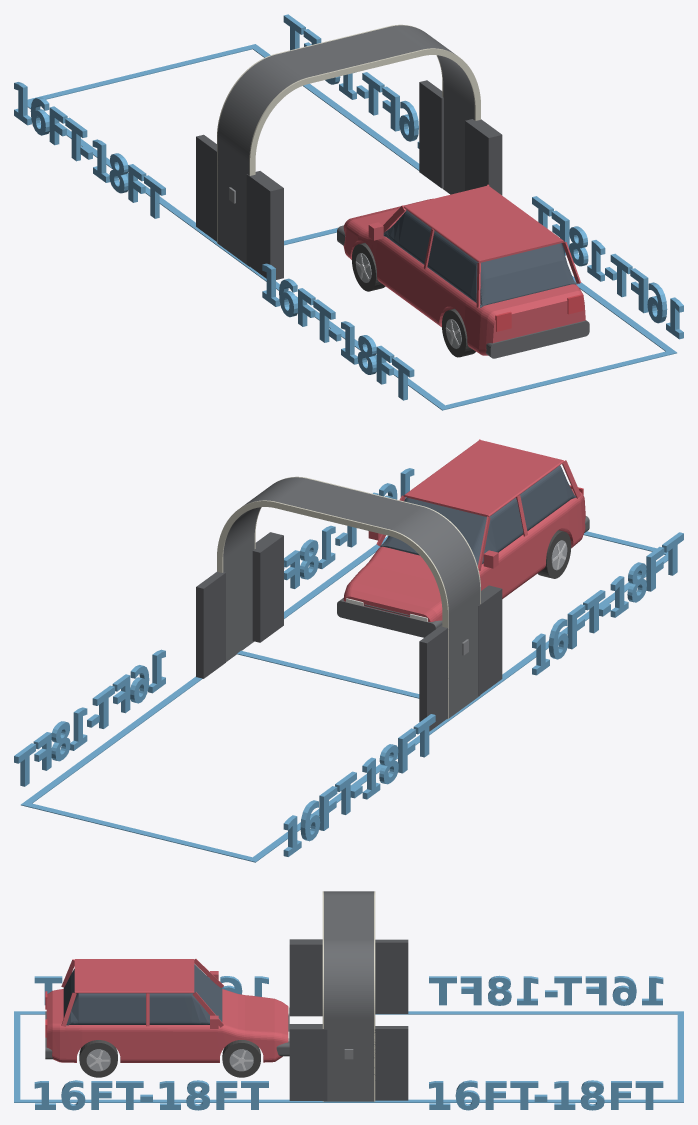
The model's file is colibri-xl-suv.glb.
The picture shows the model from 3 angles, top to bottom: view 1: azimuth 30°, elevation 25°; view 2: azimuth 150°, elevation 25°; view 3: azimuth 270°, elevation 25°; orthographic projection. The views are drawn at different scales.
Parts seen in each view (by area): view 1: arch_shell, vehicle_body, vehicle_glass, vehicle_roof, label_near_end_other_side, label_far_end_other_side, label_near_end, wing_2, label_far_end, wing_1, wing_3, arch_trim_front (+8 smaller); view 2: arch_shell, vehicle_body, vehicle_roof, vehicle_glass, label_far_end_other_side, label_near_end_other_side, label_far_end, wing_1, wing_3, wing_4, label_near_end, arch_trim_back (+7 smaller); view 3: arch_shell, vehicle_body, vehicle_glass, vehicle_roof, label_far_end_other_side, label_far_end, label_near_end, wing_1, wing_2, wing_3, wing_4, lane_right (+9 smaller).
Boxes of the visible parts, bbox=[...] form: arch_shell: bbox=[217, 25, 474, 266]; vehicle_body: bbox=[343, 198, 585, 355]; vehicle_glass: bbox=[383, 210, 577, 307]; vehicle_roof: bbox=[403, 185, 564, 262]; label_near_end_other_side: bbox=[262, 263, 414, 400]; label_far_end_other_side: bbox=[14, 82, 165, 218]; label_near_end: bbox=[532, 196, 683, 339]; wing_2: bbox=[246, 171, 283, 279]; label_far_end: bbox=[283, 14, 419, 148]; wing_1: bbox=[465, 119, 502, 195]; wing_3: bbox=[419, 80, 443, 188]; arch_trim_front: bbox=[249, 48, 480, 266]; arch_shell: bbox=[223, 477, 480, 718]; vehicle_body: bbox=[343, 489, 585, 622]; vehicle_roof: bbox=[403, 440, 564, 516]; vehicle_glass: bbox=[380, 465, 575, 565]; label_far_end_other_side: bbox=[283, 714, 435, 856]; label_near_end_other_side: bbox=[532, 532, 683, 675]; label_far_end: bbox=[14, 649, 165, 786]; wing_1: bbox=[252, 532, 283, 642]; wing_3: bbox=[196, 572, 225, 678]; wing_4: bbox=[419, 625, 447, 731]; label_near_end: bbox=[284, 468, 414, 588]; arch_trim_back: bbox=[217, 500, 448, 719]; arch_shell: bbox=[324, 891, 373, 1101]; vehicle_body: bbox=[46, 989, 288, 1062]; vehicle_glass: bbox=[63, 964, 222, 1025]; vehicle_roof: bbox=[74, 959, 194, 993]; label_far_end_other_side: bbox=[429, 975, 663, 1005]; label_far_end: bbox=[429, 1080, 663, 1110]; label_near_end: bbox=[34, 1080, 268, 1110]; wing_1: bbox=[289, 1024, 327, 1100]; wing_2: bbox=[289, 939, 322, 1016]; wing_3: bbox=[373, 1026, 408, 1100]; wing_4: bbox=[375, 939, 408, 1013]; lane_right: bbox=[14, 1099, 683, 1102].
Bounding box in the file's own units: 4.73 × 2.89 × 12.6.
